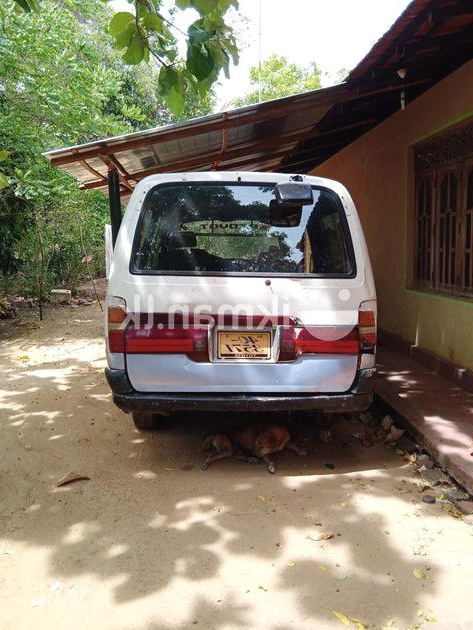van: (95, 160, 387, 433)
